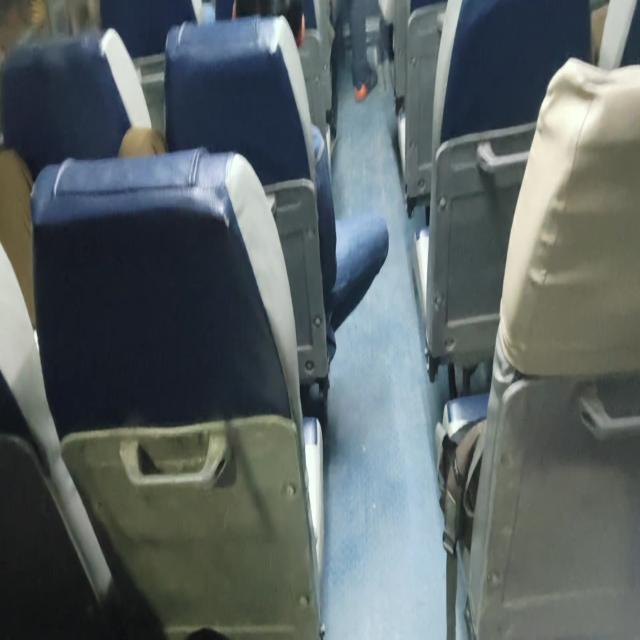person: (217, 0, 309, 49)
